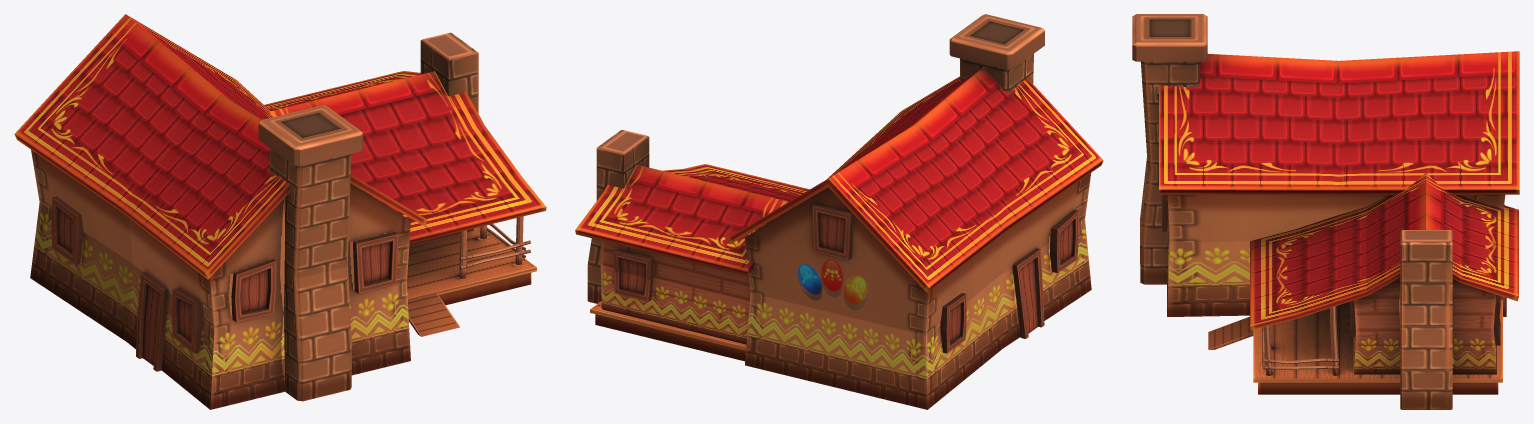
The model's file is House_10.FBX.
3 renders of one model, left to right at view 1: azimuth 30°, elevation 25°; view 2: azimuth 150°, elevation 25°; view 3: azimuth 270°, elevation 25°, orthographic. The views are drawn at different scales.
Parts seen in each view (by area): view 1: House_10; view 2: House_10; view 3: House_10.
Part boxes in pixels (box(x1,y1,x2,y2)): House_10: box(14, 14, 546, 409); House_10: box(575, 14, 1103, 409); House_10: box(1132, 14, 1519, 409).
Size of the model in its own units: 2.62 by 1.58 by 2.27.
